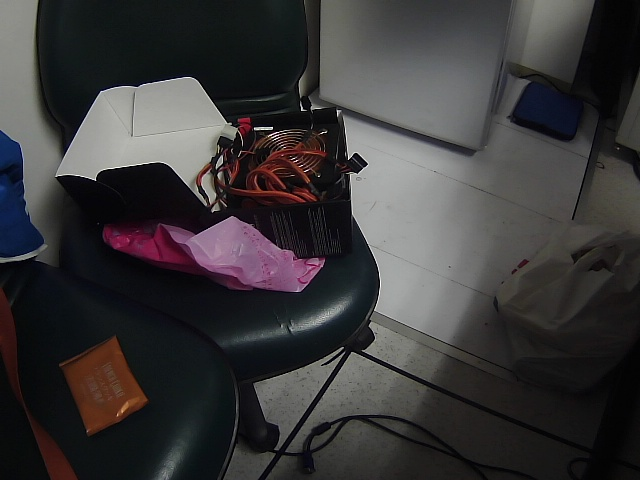frenchcookie: (53, 330, 161, 441)
